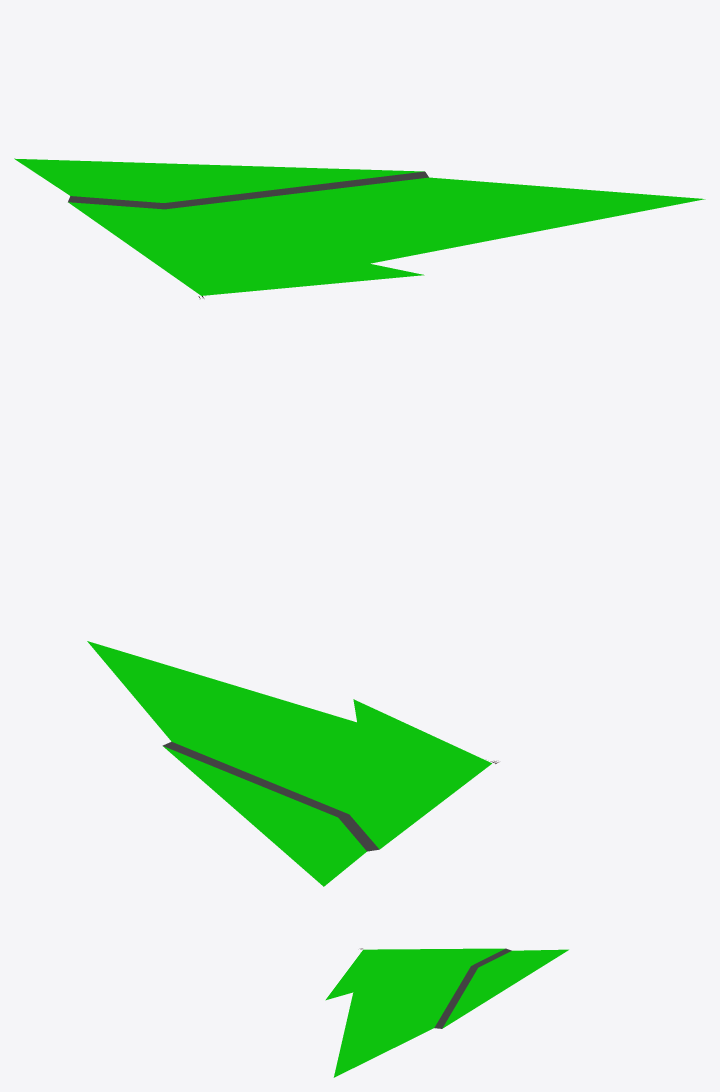
The picture shows the model from 3 angles, top to bottom: view 1: azimuth 30°, elevation 25°; view 2: azimuth 150°, elevation 25°; view 3: azimuth 270°, elevation 25°; orthographic projection. The views are drawn at different scales.
Bounding box in the file's own units: 131 × 0.064 × 296.
